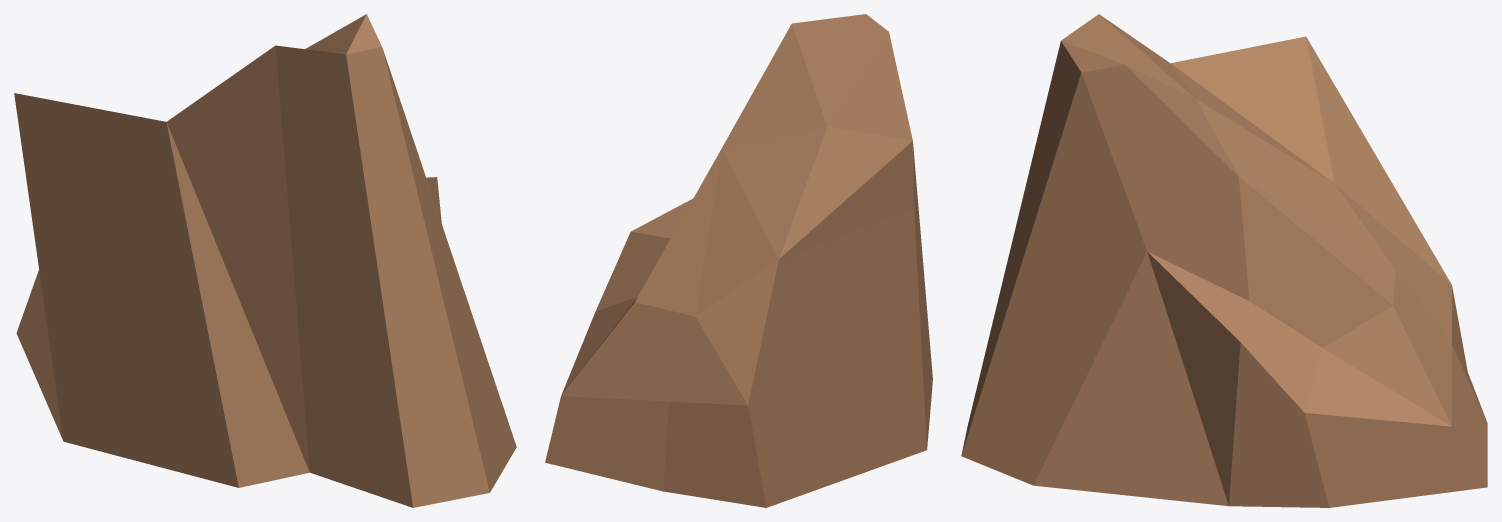
The model's file is Shore_rocks_05.fbx.
The picture shows the model from 3 angles, left to right: view 1: azimuth 30°, elevation 25°; view 2: azimuth 150°, elevation 25°; view 3: azimuth 270°, elevation 25°; orthographic projection. The views are drawn at different scales.
Parts seen in each view (by area): view 1: shore_rock_05; view 2: shore_rock_05; view 3: shore_rock_05.
Boxes of the visible parts, x1=… form: shore_rock_05: x1=14, y1=14, x2=516, y2=507; shore_rock_05: x1=545, y1=14, x2=932, y2=507; shore_rock_05: x1=961, y1=14, x2=1487, y2=507.
Size of the model in its own units: 348 by 351 by 439.
